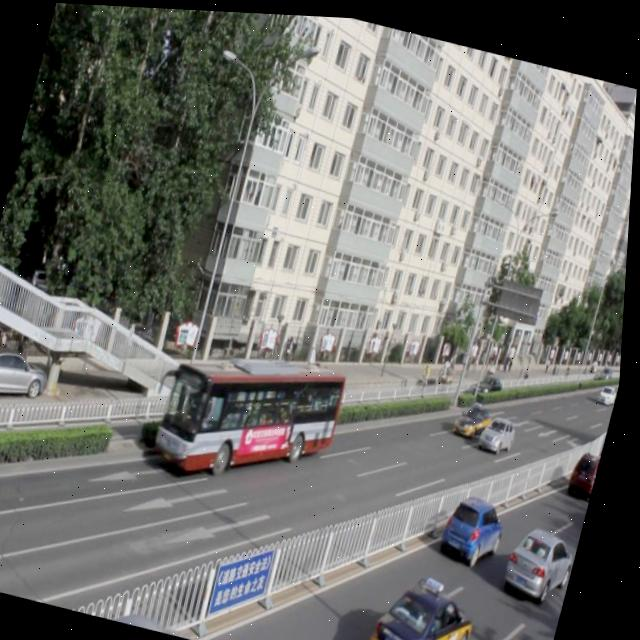car: (366, 565, 485, 640), (505, 513, 587, 598), (441, 485, 515, 561), (569, 439, 607, 494), (455, 393, 500, 436), (481, 405, 524, 449)
van: (155, 331, 351, 498)
